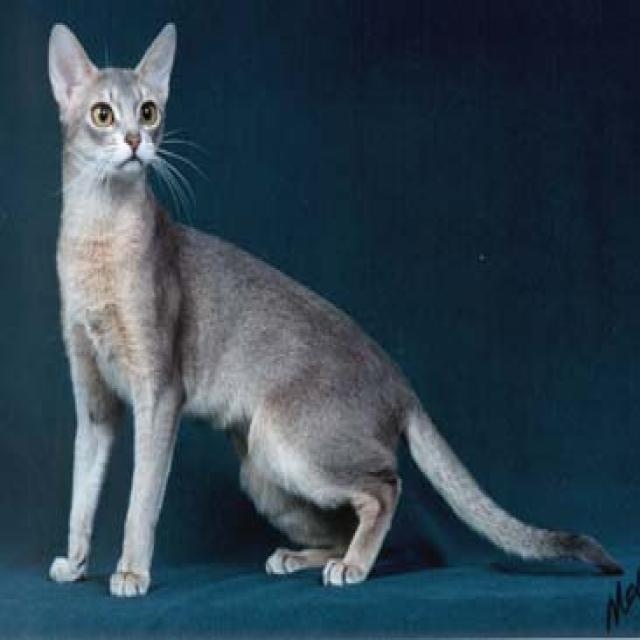Abyssinian: (43, 19, 180, 190)
